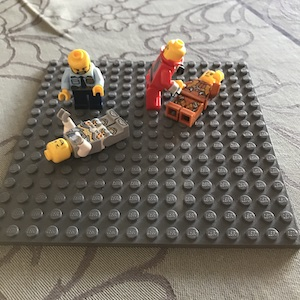Lego: (44, 108, 129, 166), (165, 65, 225, 128), (143, 39, 186, 111), (59, 48, 105, 114)
